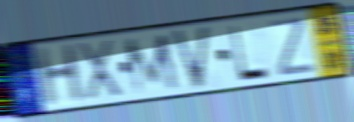H: (31, 41, 87, 111)
L: (227, 23, 273, 83)
M: (122, 31, 182, 98)
V: (169, 23, 213, 93)
X: (75, 37, 126, 102)
Z: (267, 15, 319, 79)
